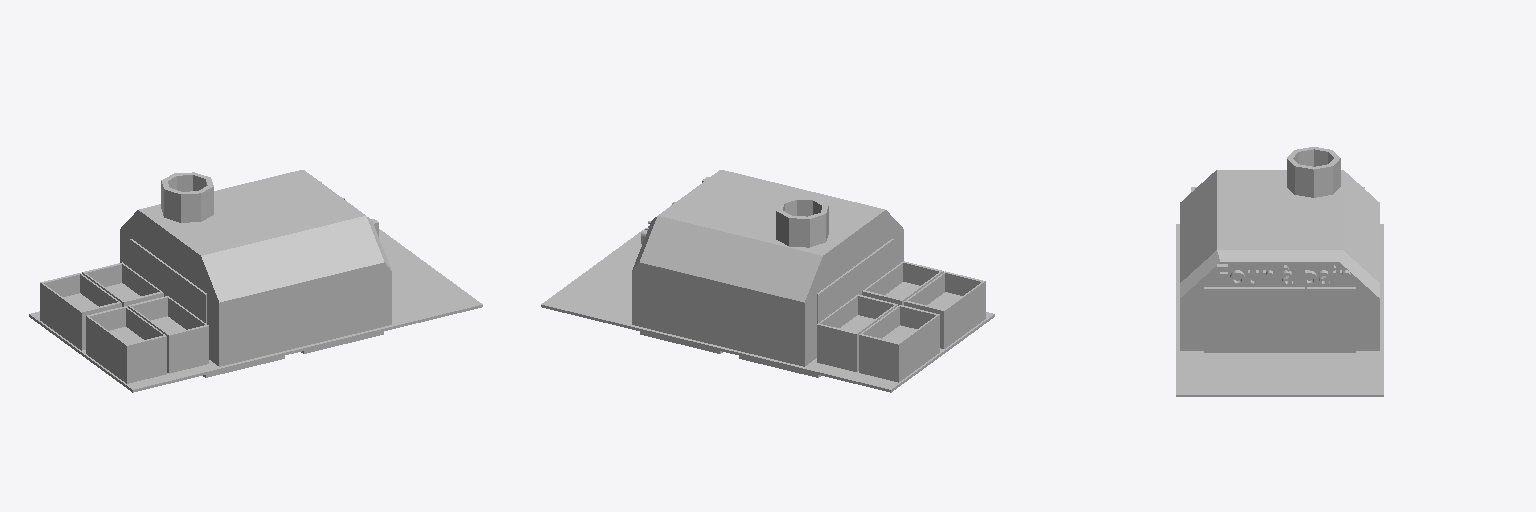
Rendered from bread_furnace.obj.
3 views of the same model, side by side, from view 1: azimuth 30°, elevation 25°; view 2: azimuth 150°, elevation 25°; view 3: azimuth 270°, elevation 25° (orthographic).
Visible parts, largest first — view 1: Cube.001_Material.005, Cube.001_Material.004, Cube_Material.003, Cube.005_Material.011, Cube.004_Material.008, Cube.007_Material.013, Cube.006_Material.002, Cylinder_Material.009, Cube.003_Material.002; view 2: Cube.001_Material.005, Cube.001_Material.004, Cube_Material.003, Cube.004_Material.008, Cube.005_Material.011, Cube.003_Material.002, Cube.006_Material.002, Cylinder_Material.009, Cube.007_Material.013; view 3: Cube.001_Material.005, Cube_Material.003, Cube.002_Material.002, Cube.001_Material.004, Cylinder_Material.009, Texte_Matériau.
Part boxes in pixels (x1,y1,x2,y2): Cube.001_Material.005: (139, 170, 391, 302); Cube.001_Material.004: (120, 210, 391, 366); Cube_Material.003: (29, 229, 482, 392); Cube.005_Material.011: (86, 306, 166, 383); Cube.004_Material.008: (40, 273, 121, 350); Cube.007_Material.013: (128, 296, 208, 373); Cube.006_Material.002: (130, 239, 284, 377); Cylinder_Material.009: (161, 172, 213, 222); Cube.003_Material.002: (82, 262, 163, 306); Cube.001_Material.005: (632, 170, 884, 302); Cube.001_Material.004: (632, 210, 903, 366); Cube_Material.003: (541, 229, 994, 392); Cube.004_Material.008: (859, 305, 939, 382); Cube.005_Material.011: (904, 271, 985, 348); Cube.003_Material.002: (817, 294, 897, 371); Cube.006_Material.002: (739, 239, 893, 377); Cylinder_Material.009: (776, 197, 828, 247); Cube.007_Material.013: (862, 261, 943, 305); Cube.001_Material.005: (1180, 170, 1379, 297); Cube_Material.003: (1176, 224, 1383, 396); Cube.002_Material.002: (1204, 287, 1355, 352); Cube.001_Material.004: (1180, 262, 1379, 350); Cylinder_Material.009: (1287, 147, 1340, 197); Texte_Matériau: (1217, 264, 1350, 290).
Size of the model in its own units: 9.09 by 3.61 by 4.67.